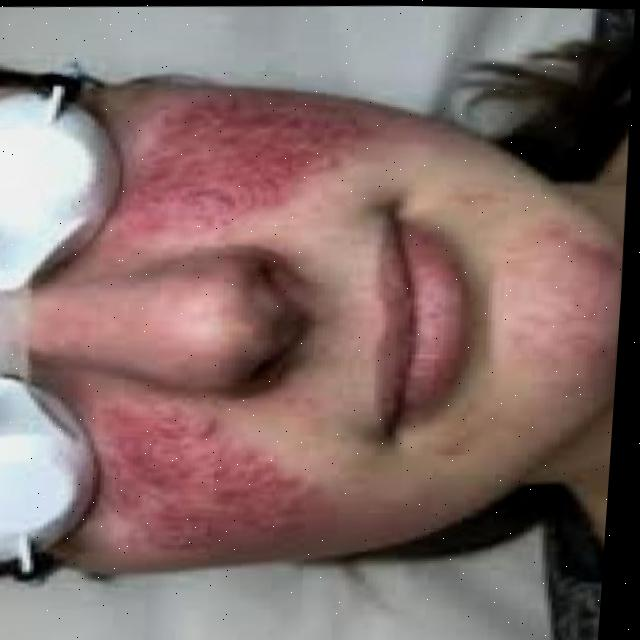Rosacea: (140, 93, 331, 235), (118, 411, 310, 538)
